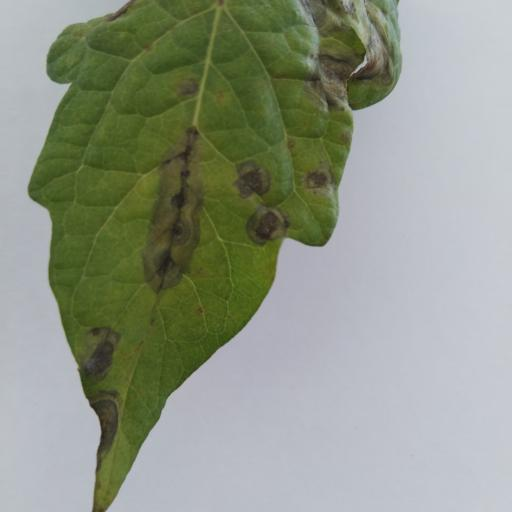disease_tomato: (30, 0, 404, 512)
